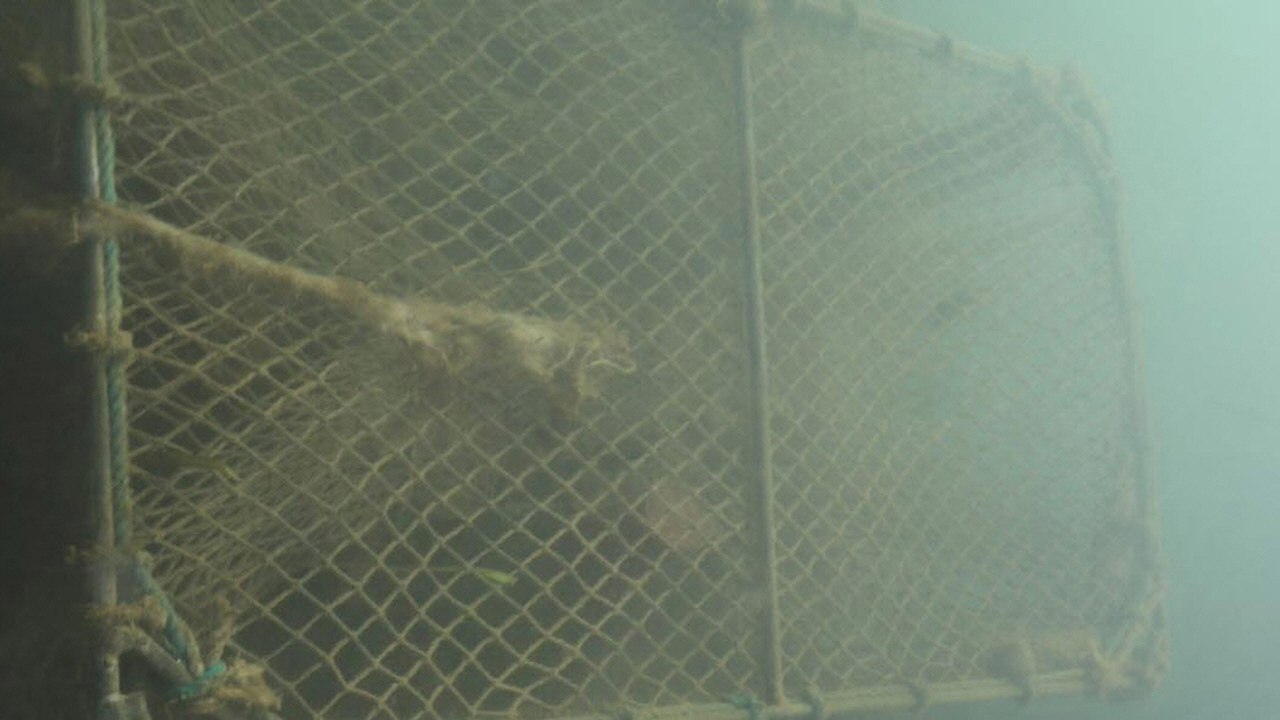rectangular fish trap: (70, 0, 1172, 720)
